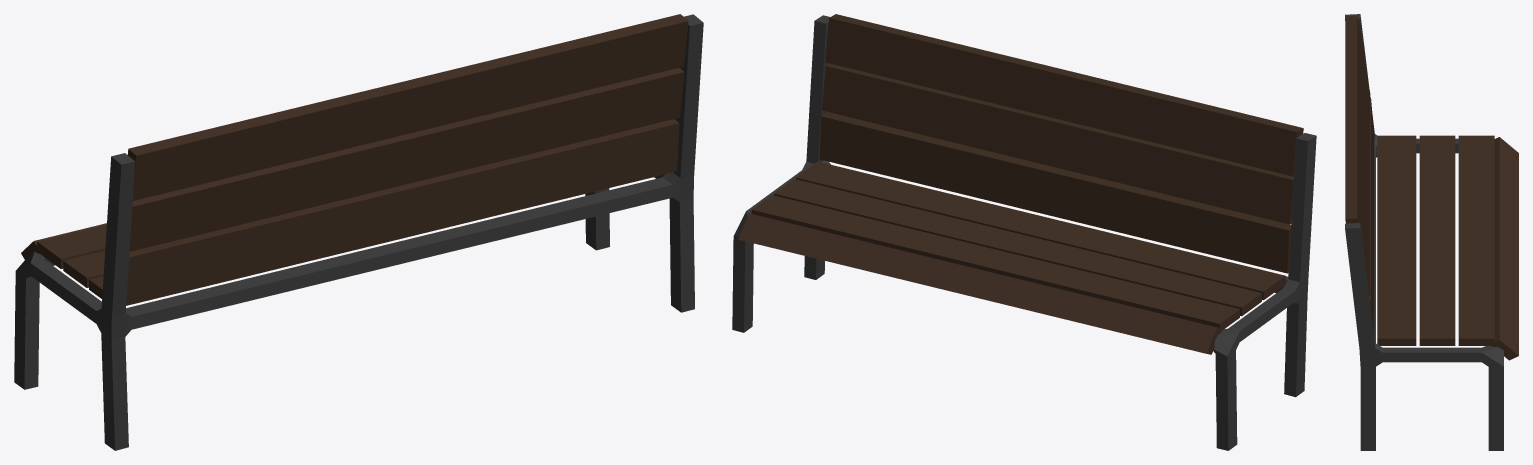
Rendered from garden_chair.glb.
3 renders of one model, left to right at view 1: azimuth 30°, elevation 25°; view 2: azimuth 150°, elevation 25°; view 3: azimuth 270°, elevation 25°, orthographic. The views are drawn at different scales.
Parts seen in each view (by area): view 1: garden_chair; view 2: garden_chair; view 3: garden_chair.
Boxes of the visible parts, bbox=[...] form: garden_chair: bbox=[14, 14, 703, 450]; garden_chair: bbox=[732, 14, 1316, 450]; garden_chair: bbox=[1345, 14, 1518, 450].
Bounding box in the file's own units: 2.1 × 1.03 × 0.718.
